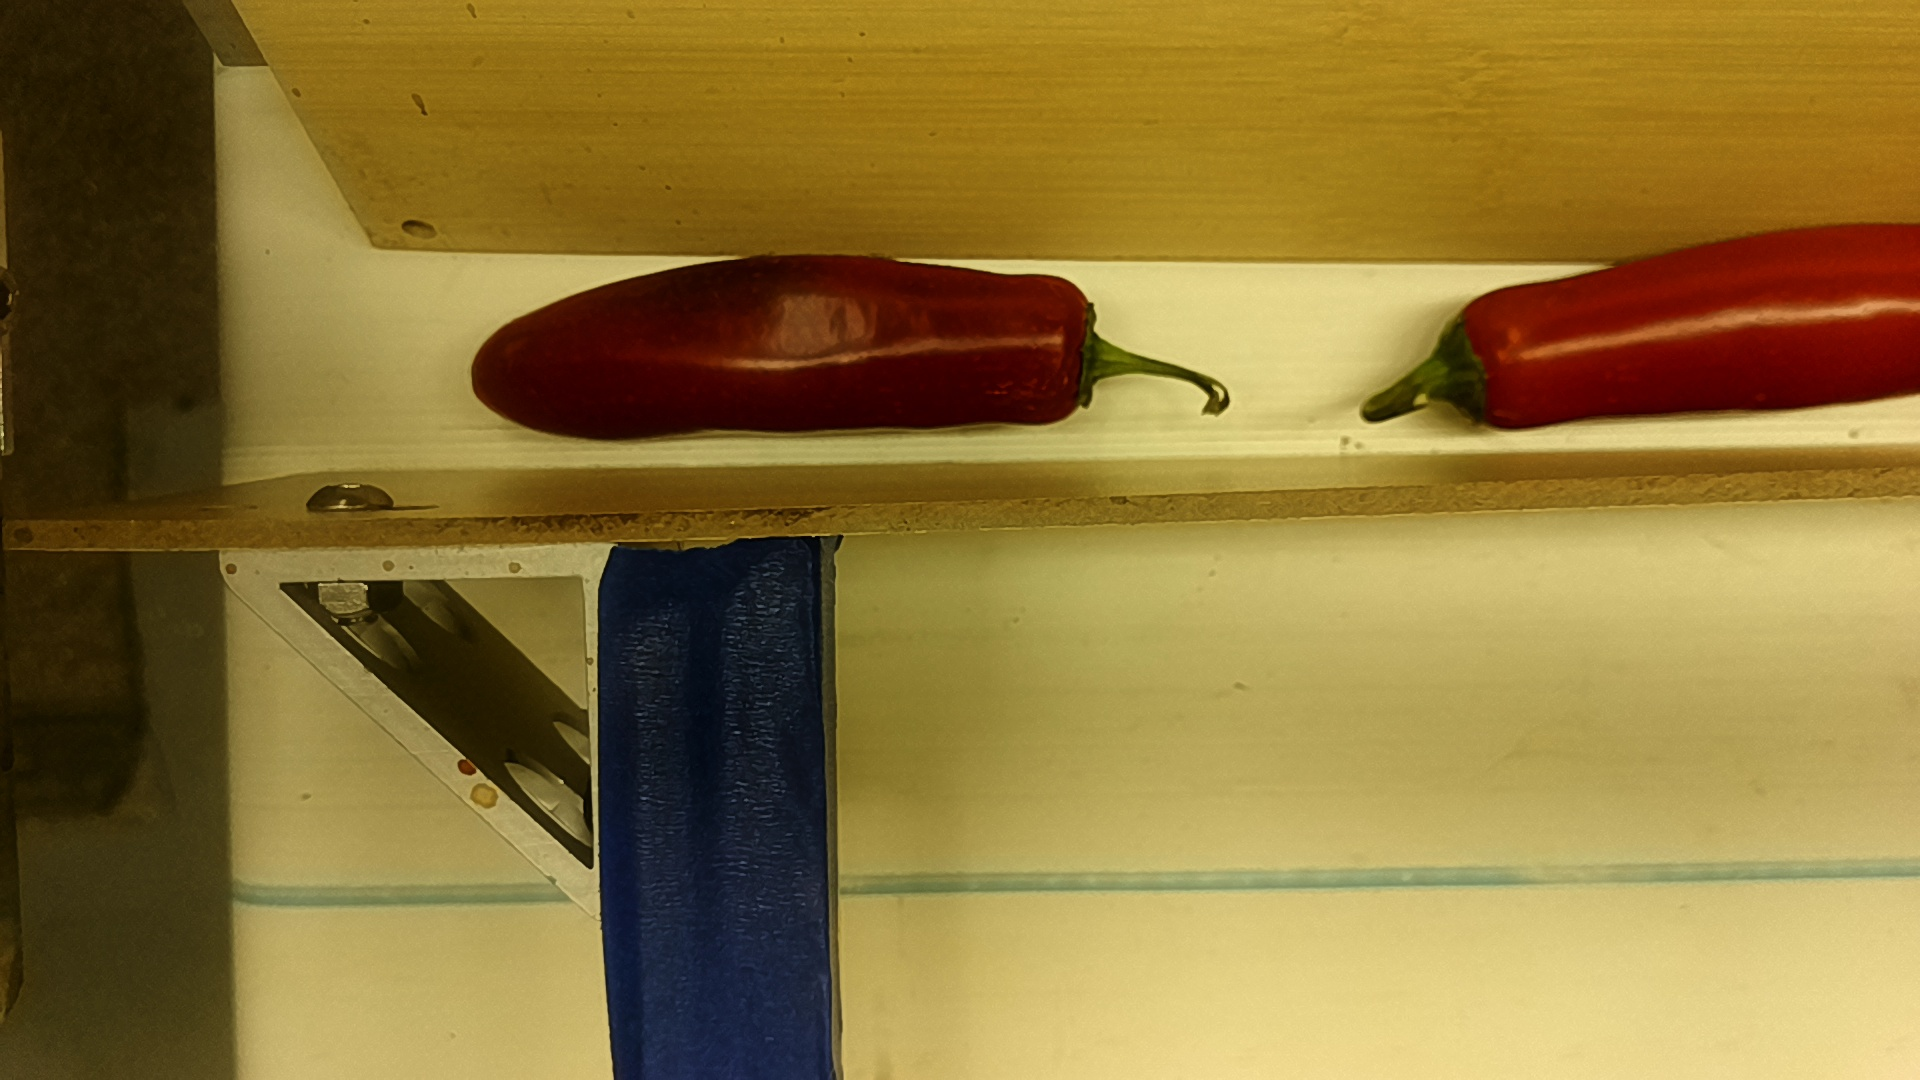Cut Point: (1033, 261, 1122, 431), (1435, 284, 1520, 440)
